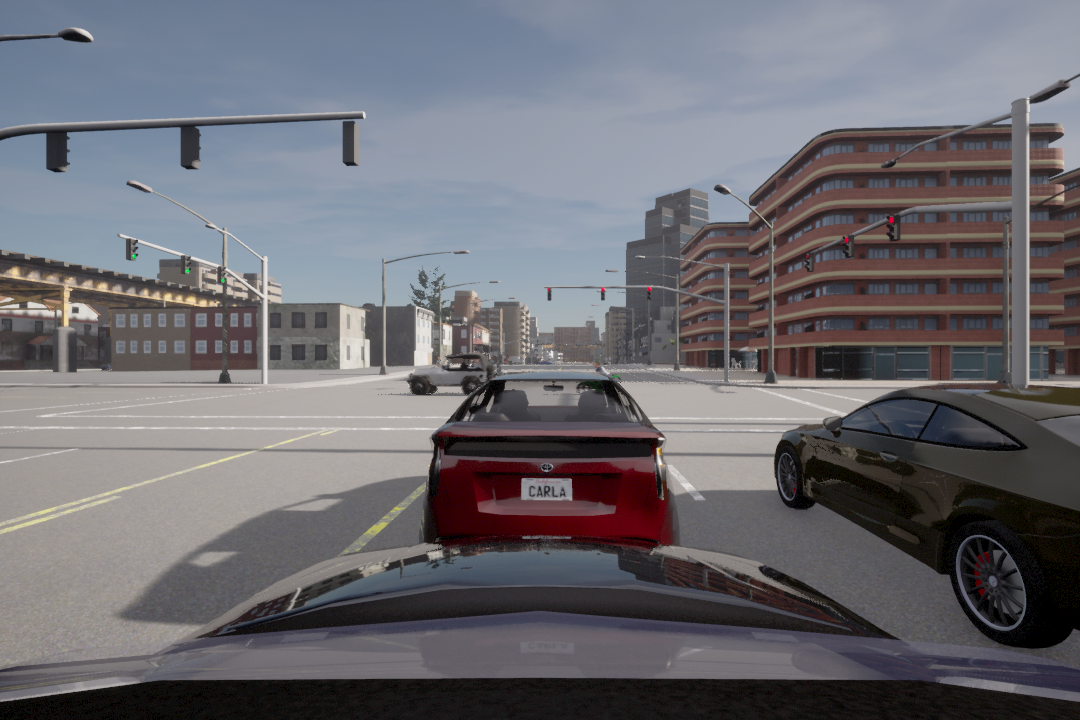TrafficLight: (123, 238, 143, 267), (885, 210, 903, 242), (840, 228, 856, 260), (178, 253, 192, 279), (217, 264, 229, 288), (804, 252, 817, 274), (545, 286, 554, 304), (598, 287, 606, 302), (645, 285, 653, 300)
